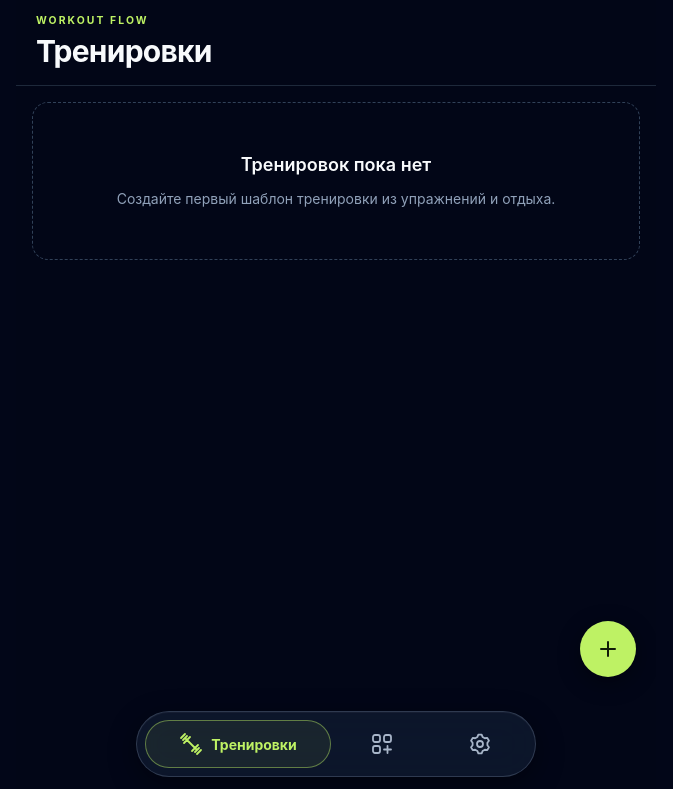
workout template creation › shows links when either catalog is empty
Expected: the heading "Тренировок пока нет" is shown, 241,154 -> 431,175
Click the button named "Создать тренировку" at x=608, y=649, box 580,621 -> 636,677
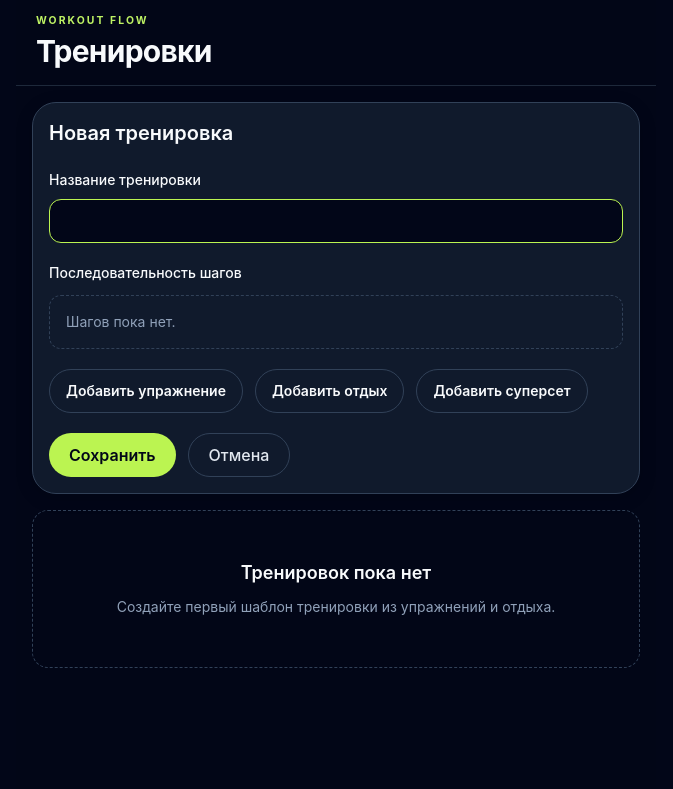
Click the button "Добавить упражнение" at x=146, y=391, box 49,369 -> 243,413
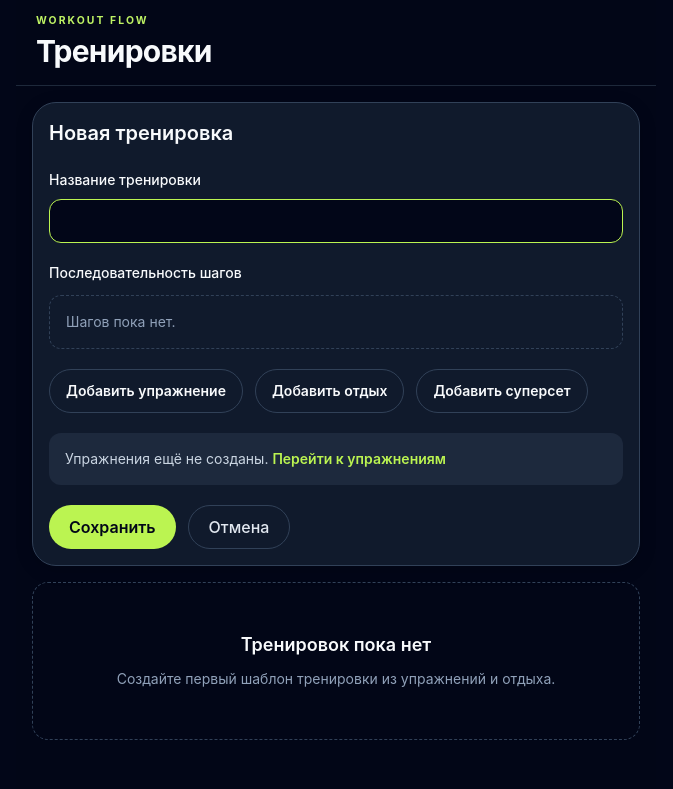
Now the text "Упражнения ещё не созданы. Перейти к упражнениям" is shown, box 65,450 -> 446,467
Click the button "Добавить отдых" at x=330, y=391, box 255,369 -> 404,413
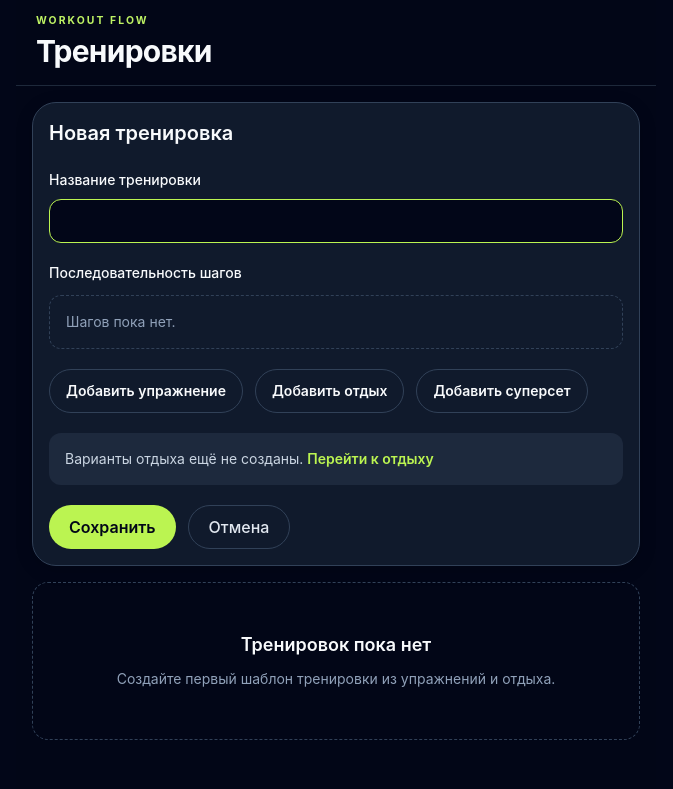
Now the text "Варианты отдыха ещё не созданы. Перейти к отдыху" is shown, box 65,450 -> 434,467
